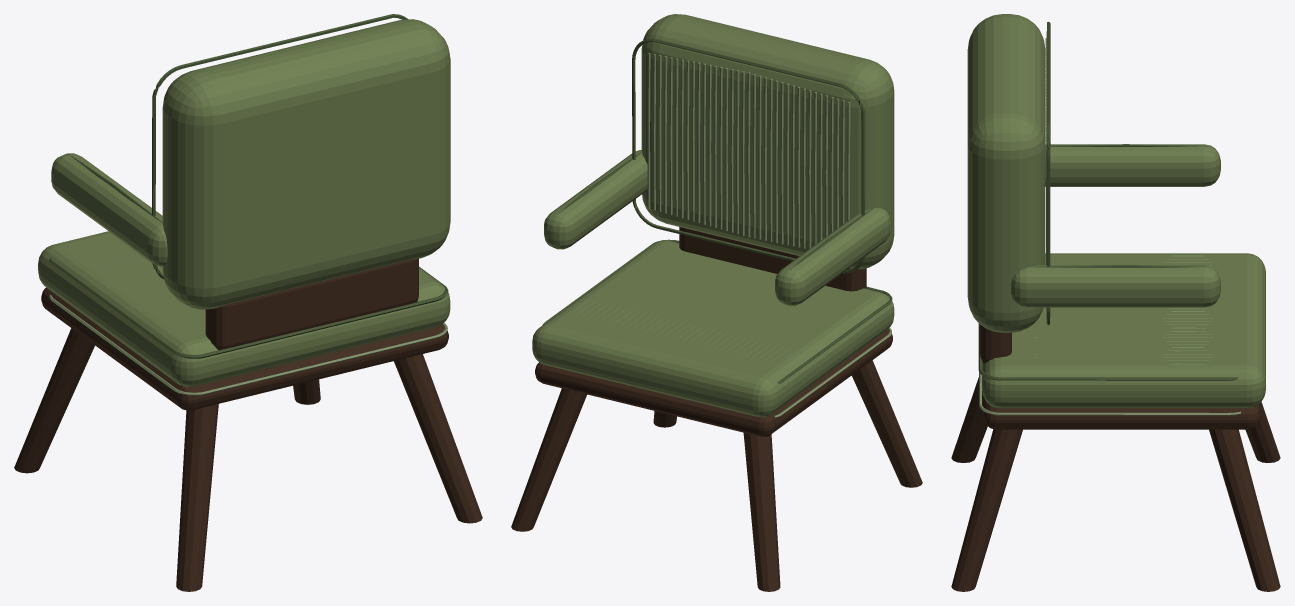
File: chair_desk_olive.fbx
3 renders of one model, left to right at view 1: azimuth 30°, elevation 25°; view 2: azimuth 150°, elevation 25°; view 3: azimuth 270°, elevation 25°, orthographic. The views are drawn at different scales.
Visible parts, largest first — view 1: chair_desk_olive; view 2: chair_desk_olive; view 3: chair_desk_olive.
Boxes of the visible parts, x1=… form: chair_desk_olive: x1=14, y1=14, x2=482, y2=591; chair_desk_olive: x1=511, y1=14, x2=922, y2=591; chair_desk_olive: x1=951, y1=14, x2=1280, y2=591.
Bounding box in the file's own units: 0.62 × 0.95 × 0.62.
